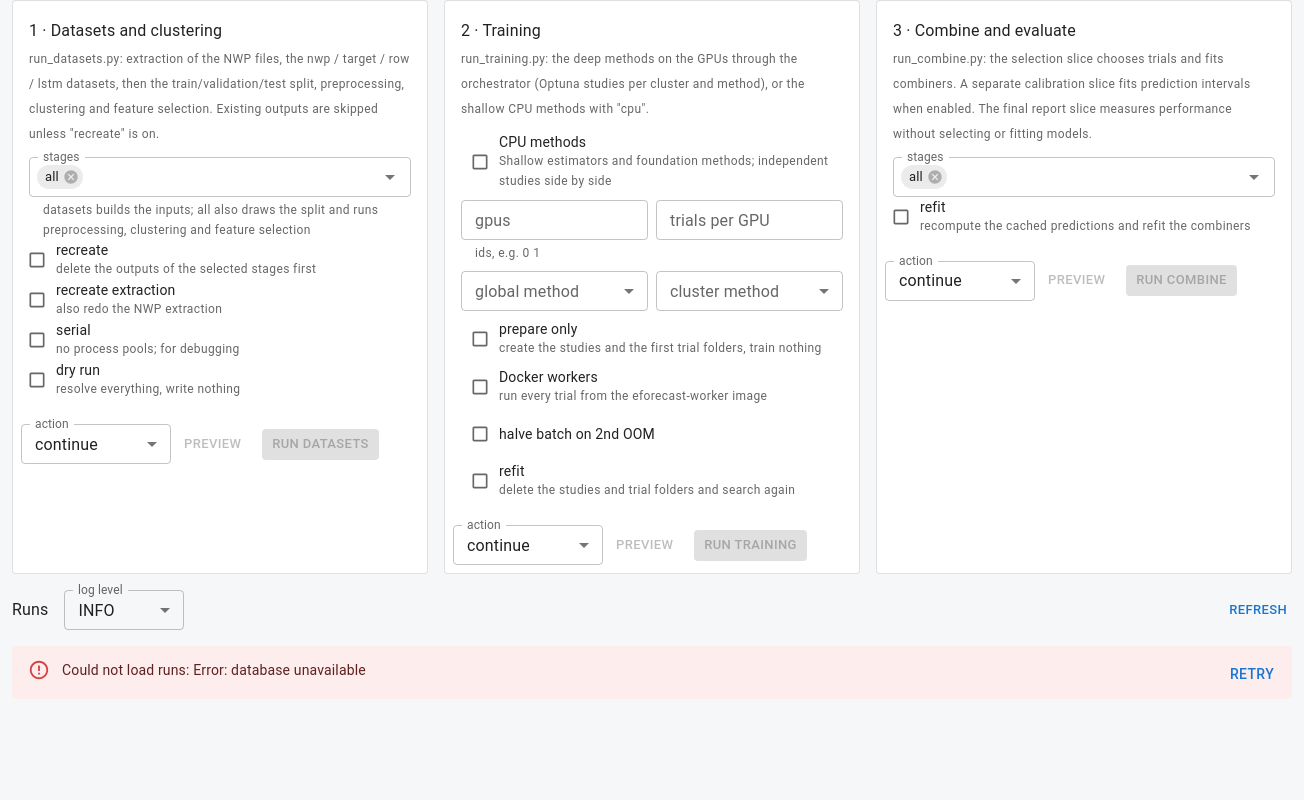
run actions and failures › distinguishes failed run loading from an empty case and supports retry
Check: the text "Could not load runs: Error: database unavailable" is shown, box [62, 662, 366, 678]
Check: the text "No run yet for this case." is not shown
Click the button "Retry": (1252, 674) [1220, 656, 1284, 693]
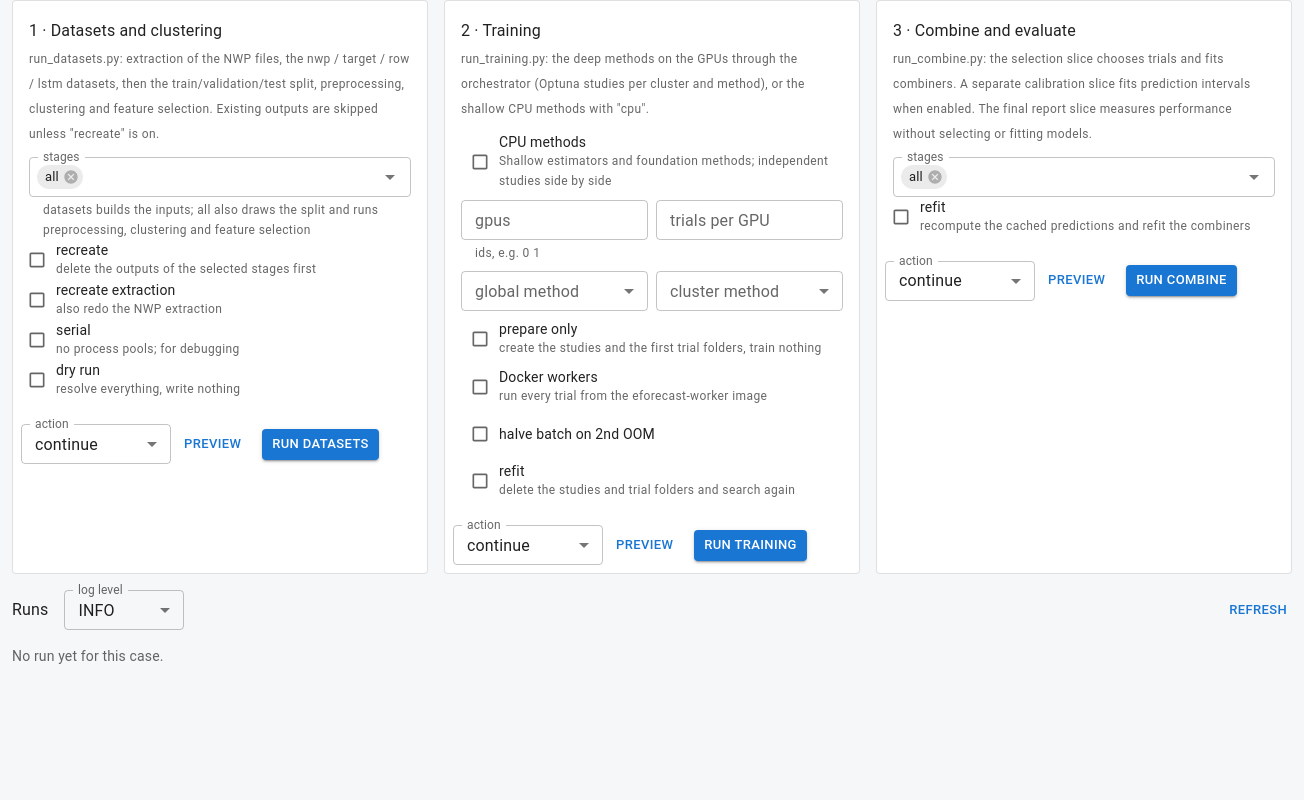
Check: the text "No run yet for this case." is shown, box [12, 648, 164, 664]
Check: the button "Run training" is enabled, box [694, 530, 807, 561]
